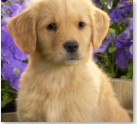dog: (10, 1, 110, 70)
